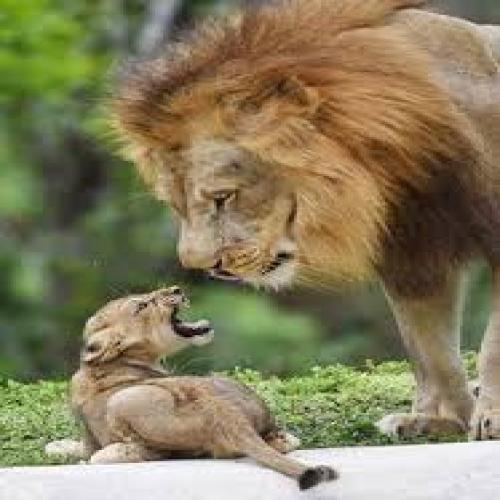lion-endangered: (122, 2, 500, 439), (63, 289, 338, 486)
